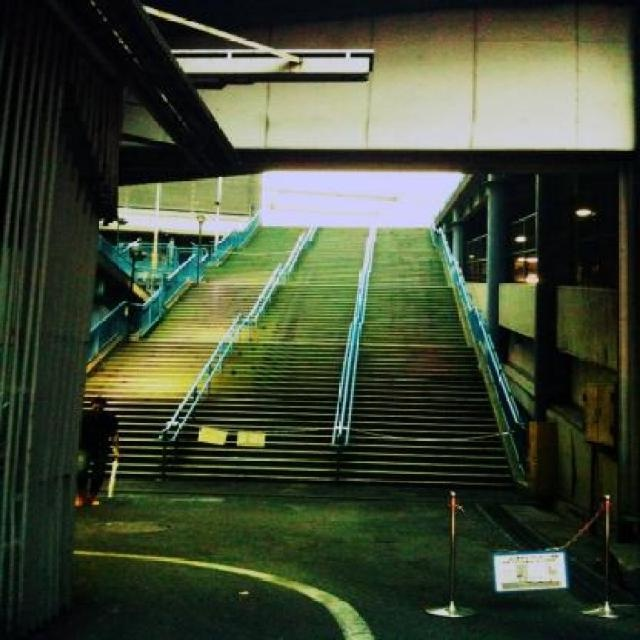stair: (80, 223, 528, 494)
